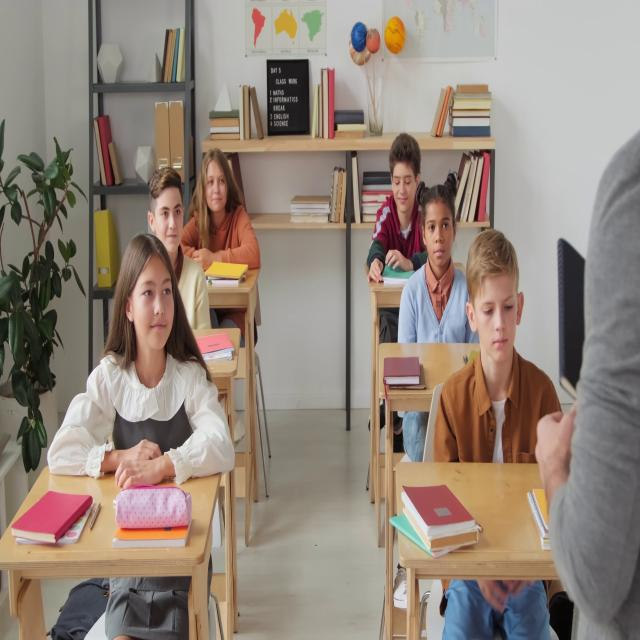listening: (428, 236, 564, 632), (49, 235, 236, 482), (184, 146, 262, 342), (398, 180, 477, 346), (149, 168, 215, 332), (366, 132, 427, 284)
